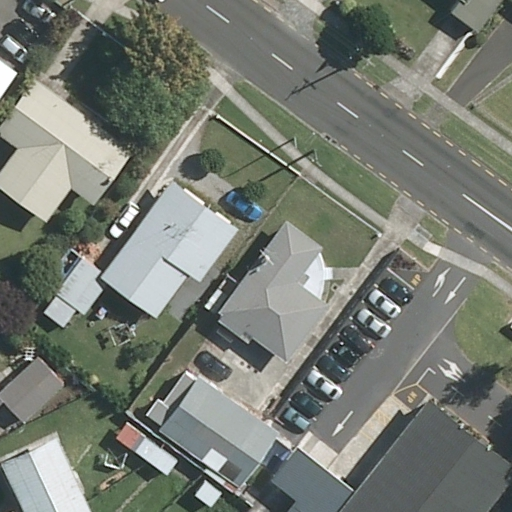DT: (351, 49, 377, 72)
